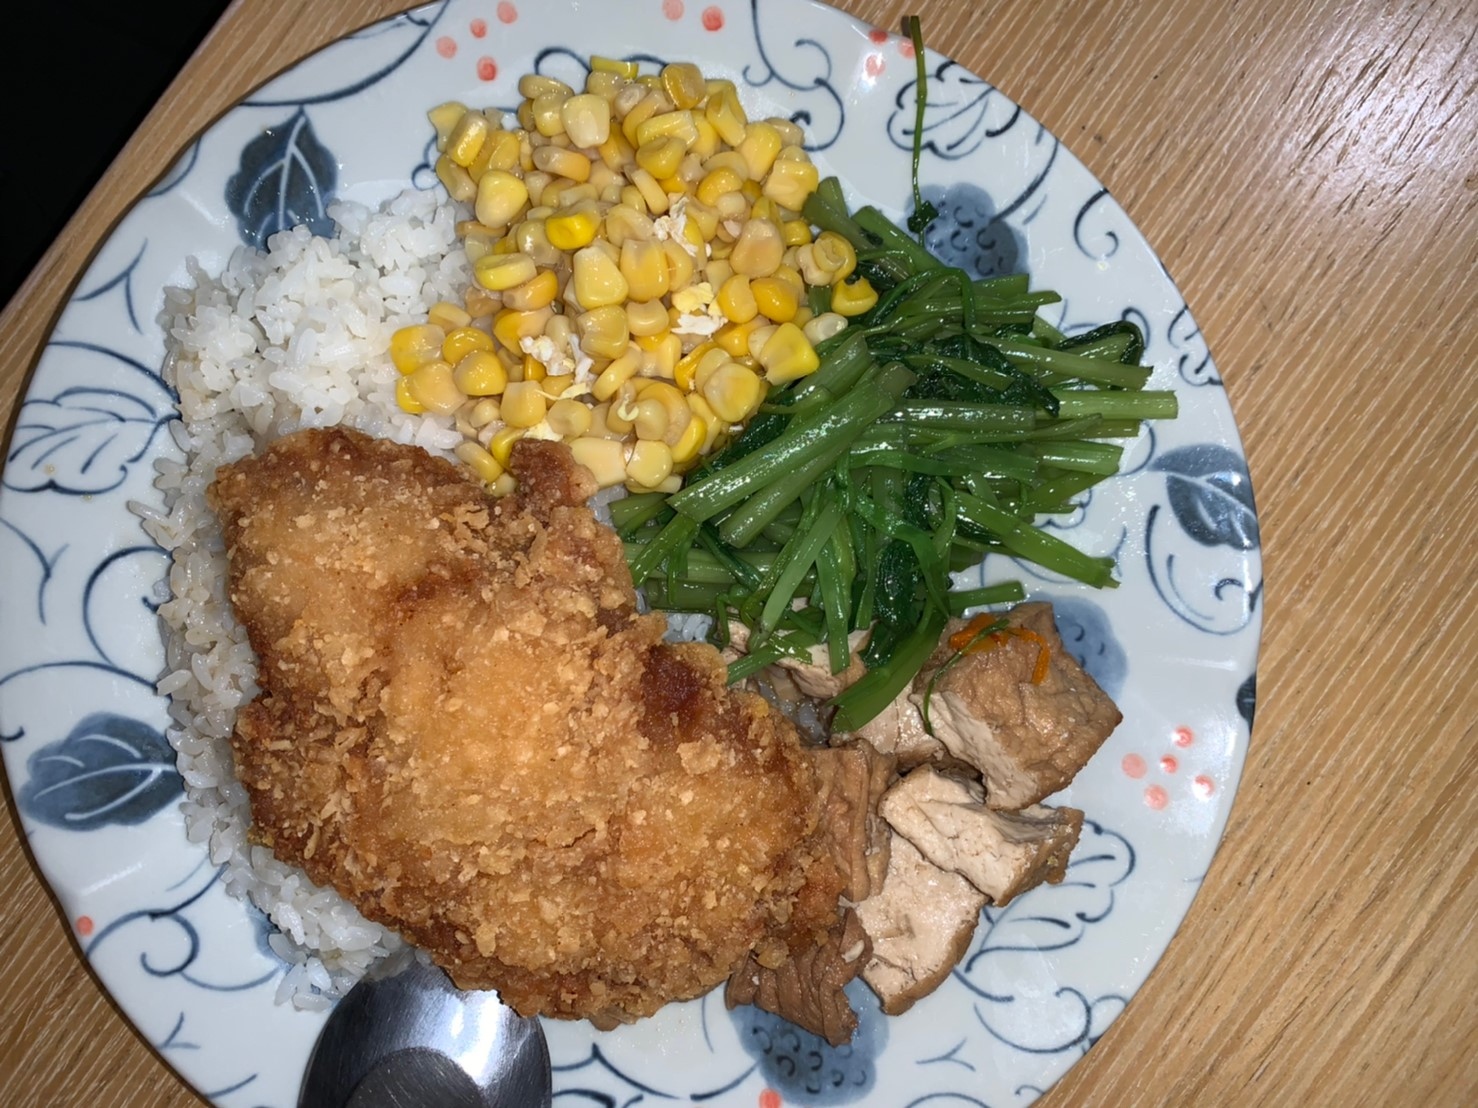fried_chicken: (230, 439, 813, 1020)
rice: (176, 201, 452, 429)
water_spinach: (689, 222, 1132, 648)
